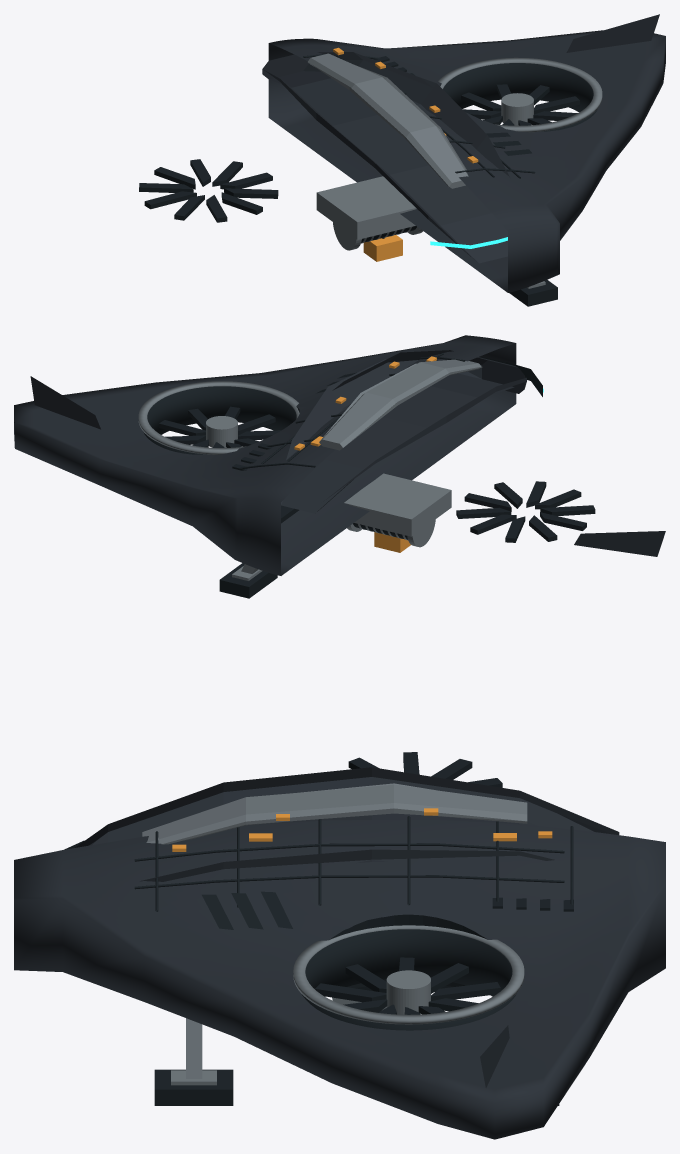
File: salvage.glb
The picture shows the model from 3 angles, top to bottom: view 1: azimuth 30°, elevation 25°; view 2: azimuth 150°, elevation 25°; view 3: azimuth 270°, elevation 25°; orthographic projection. The views are drawn at different scales.
Parts seen in each view (by area): view 1: BlendedWing_StructuralShell, SculptedCentralArmor, SpineInset, DuctWall, WinchSupport, MachinedDuctLip, WingtipFence.001, TurbineHub, RecoveryClamp, Gear_Foot, RotorBlade_-1_06, RotorBlade_-1_00 (+4 smaller); view 2: BlendedWing_StructuralShell, SculptedCentralArmor, DuctWall, SpineInset, WinchSupport, MachinedDuctLip, WingtipFence, WingtipFence.001, Gear_Foot.001, TurbineHub, RecoveryClamp, RotorBlade_-1_09 (+6 smaller); view 3: BlendedWing_StructuralShell, SculptedCentralArmor, SpineInset, DuctWall, MachinedDuctLip, Gear_Foot, TurbineHub, SpineSeam, SpineSeam.001, Gear_Strut, RotorBlade_1_03, RotorBlade_1_07 (+1 smaller).
Boxes of the visible parts, left/top/right/bottom form: BlendedWing_StructuralShell: left=268, top=30, right=665, bottom=292; SculptedCentralArmor: left=262, top=52, right=509, bottom=263; SpineInset: left=308, top=53, right=468, bottom=188; DuctWall: left=443, top=63, right=597, bottom=131; WinchSupport: left=316, top=176, right=416, bottom=239; MachinedDuctLip: left=438, top=57, right=602, bottom=132; WingtipFence.001: left=566, top=14, right=659, bottom=52; TurbineHub: left=501, top=93, right=533, bottom=125; RecoveryClamp: left=363, top=235, right=402, bottom=261; Gear_Foot: left=509, top=280, right=557, bottom=306; RotorBlade_-1_06: left=224, top=188, right=278, bottom=198; RotorBlade_-1_00: left=144, top=191, right=196, bottom=209; BlendedWing_StructuralShell: left=14, top=335, right=516, bottom=575; SculptedCentralArmor: left=281, top=350, right=526, bottom=513; DuctWall: left=143, top=386, right=296, bottom=454; SpineInset: left=319, top=359, right=482, bottom=450; WinchSupport: left=344, top=473, right=451, bottom=536; MachinedDuctLip: left=138, top=381, right=299, bottom=454; WingtipFence: left=574, top=531, right=665, bottom=556; WingtipFence.001: left=30, top=376, right=100, bottom=429; Gear_Foot.001: left=219, top=563, right=277, bottom=598; TurbineHub: left=206, top=416, right=237, bottom=447; RecoveryClamp: left=374, top=532, right=410, bottom=552; RotorBlade_-1_09: left=540, top=505, right=595, bottom=515; BlendedWing_StructuralShell: left=14, top=820, right=665, bottom=1139; SculptedCentralArmor: left=75, top=767, right=619, bottom=881; SpineInset: left=142, top=783, right=527, bottom=844; DuctWall: left=302, top=929, right=516, bottom=1030; MachinedDuctLip: left=293, top=925, right=524, bottom=1024; Gear_Foot: left=154, top=1069, right=233, bottom=1105; TurbineHub: left=386, top=970, right=430, bottom=1014; SpineSeam: left=134, top=843, right=564, bottom=861; SpineSeam.001: left=134, top=875, right=564, bottom=889; Gear_Strut: left=186, top=1018, right=202, bottom=1078; RotorBlade_1_03: left=431, top=982, right=500, bottom=1000; RotorBlade_1_07: left=315, top=983, right=386, bottom=1002.
Bounding box in the file's own units: 8.17 × 2.13 × 5.15.
